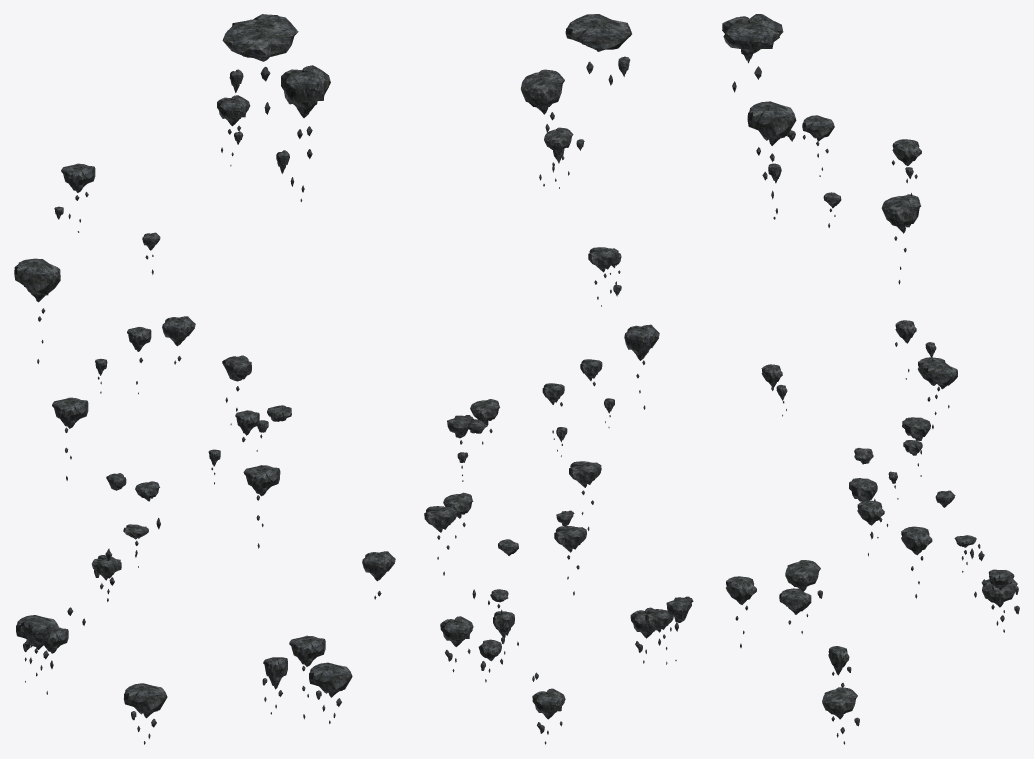
The model's file is rock.fbx.
3 views of the same model, side by side, from view 1: azimuth 30°, elevation 25°; view 2: azimuth 150°, elevation 25°; view 3: azimuth 270°, elevation 25° (orthographic). The views are drawn at different scales.
Parts seen in each view (by area): view 1: rock; view 2: rock; view 3: rock.
Part boxes in pixels (box(x1,y1,x2,y2)): rock: box(14, 14, 395, 744); rock: box(424, 14, 693, 744); rock: box(722, 14, 1019, 744).
Size of the model in its own units: 5479 by 12204 by 4923.
